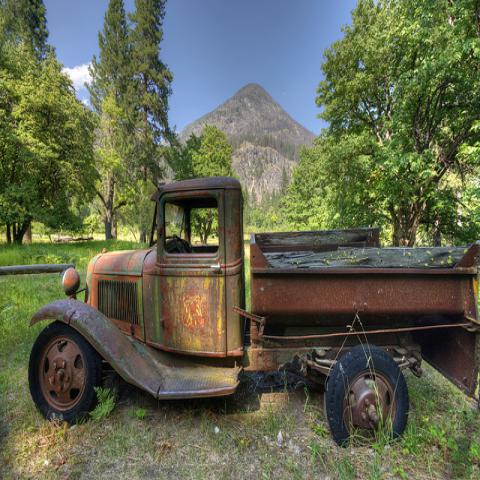truck: (25, 176, 479, 448)
